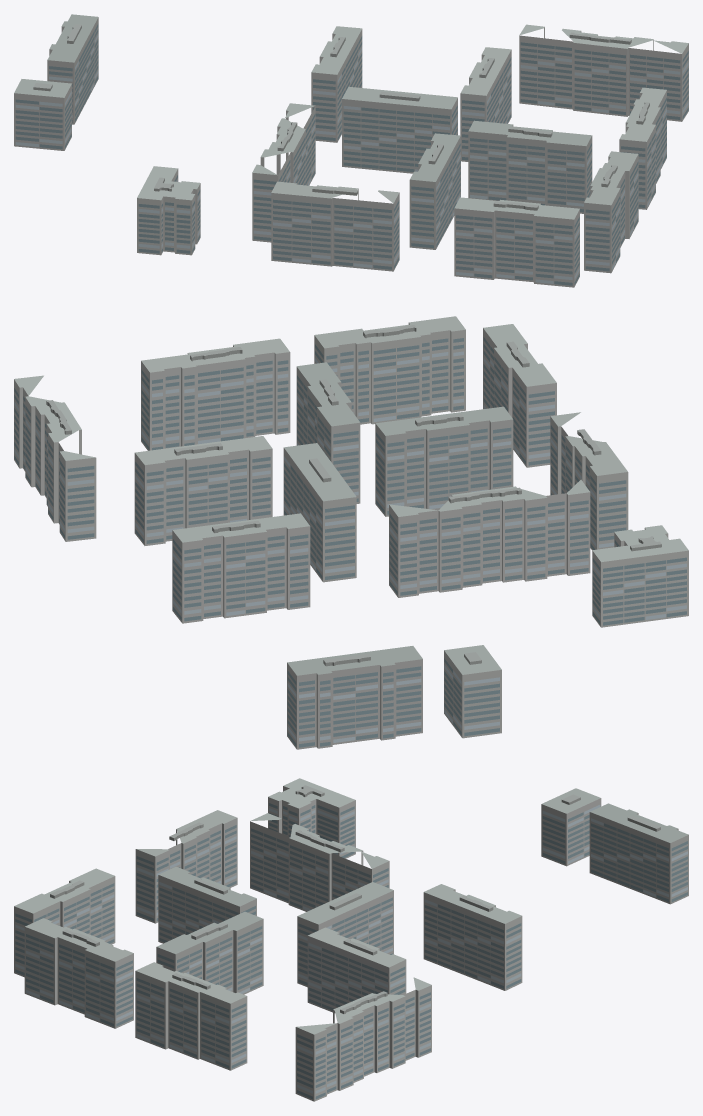
The model's file is apt-a13881204.glb.
3 renders of one model, top to bottom at view 1: azimuth 30°, elevation 25°; view 2: azimuth 150°, elevation 25°; view 3: azimuth 270°, elevation 25°, orthographic. The views are drawn at different scales.
Visible parts, largest first — view 1: apt-a13881204; view 2: apt-a13881204; view 3: apt-a13881204.
Boxes of the visible parts, x1,y1,x2,y2 form: apt-a13881204: [14, 14, 688, 287]; apt-a13881204: [14, 316, 688, 749]; apt-a13881204: [14, 778, 688, 1101].
Bounding box in the file's own units: 315 × 38.25 × 334.
